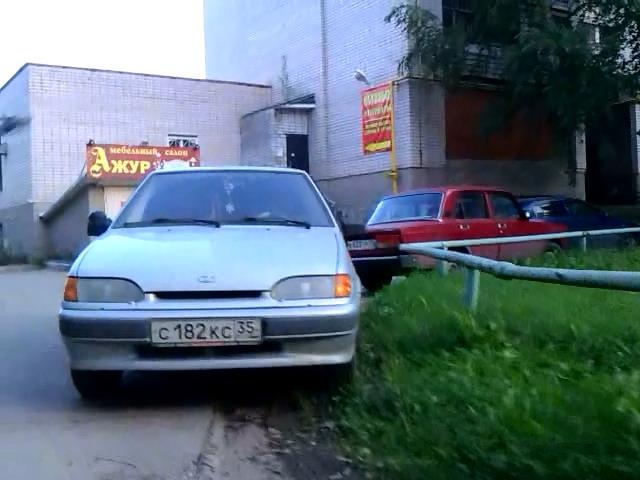car license plate: (149, 315, 267, 349), (347, 236, 378, 255)
